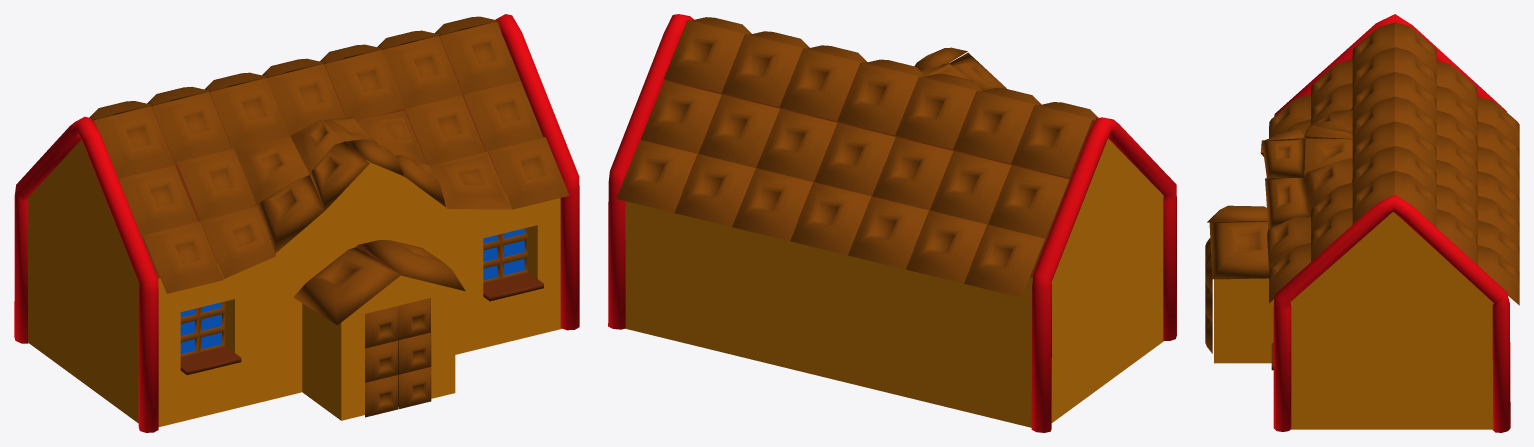
Rendered from chatkazPiernka.fbx.
3 renders of one model, left to right at view 1: azimuth 30°, elevation 25°; view 2: azimuth 150°, elevation 25°; view 3: azimuth 270°, elevation 25°, orthographic. The views are drawn at different scales.
Parts seen in each view (by area): view 1: Cube, kostka.016, Cube.001, kostka.001, kostka, kostka.019, kostka.004, kostka.013, kostka.006, kostka.002, kostka.008, kostka.005 (+28 smaller); view 2: Cube, kostka.033, kostka.035, kostka.045, kostka.048, kostka.050, kostka.031, kostka.036, kostka.040, kostka.042, kostka.046, kostka.034 (+12 smaller); view 3: Cube, kostka.015, kostka.024, kostka.023, kostka.014, kostka.010, kostka.020, kostka.045, kostka.031, kostka.013, kostka, kostka.038 (+32 smaller).
Boxes of the visible parts, bbox=[...] form: Cube: bbox=[14, 14, 579, 432]; kostka.016: bbox=[293, 247, 401, 325]; Cube.001: bbox=[180, 227, 528, 356]; kostka.001: bbox=[382, 36, 462, 108]; kostka: bbox=[440, 22, 520, 94]; kostka.019: bbox=[143, 221, 223, 293]; kostka.004: bbox=[209, 78, 290, 149]; kostka.013: bbox=[488, 137, 569, 209]; kostka.006: bbox=[94, 106, 174, 178]; kostka.002: bbox=[325, 50, 405, 120]; kostka.008: bbox=[177, 148, 256, 220]; kostka.005: bbox=[152, 92, 231, 164]; Cube: bbox=[608, 14, 1176, 432]; kostka.033: bbox=[779, 48, 860, 121]; kostka.035: bbox=[895, 76, 976, 149]; kostka.045: bbox=[616, 140, 697, 212]; kostka.048: bbox=[790, 182, 871, 255]; kostka.050: bbox=[906, 210, 987, 283]; kostka.031: bbox=[664, 20, 744, 92]; kostka.036: bbox=[953, 90, 1034, 163]; kostka.040: bbox=[756, 108, 837, 181]; kostka.042: bbox=[872, 137, 953, 209]; kostka.046: bbox=[674, 154, 755, 226]; kostka.034: bbox=[838, 62, 918, 135]; Cube: bbox=[1214, 14, 1510, 432]; kostka.015: bbox=[1209, 221, 1268, 279]; kostka.024: bbox=[1265, 177, 1310, 228]; kostka.023: bbox=[1262, 138, 1305, 178]; kostka.014: bbox=[1267, 216, 1310, 273]; kostka.010: bbox=[1304, 158, 1352, 209]; kostka.020: bbox=[1304, 138, 1352, 176]; kostka.045: bbox=[1477, 245, 1519, 305]; kostka.031: bbox=[1394, 170, 1436, 227]; kostka.013: bbox=[1269, 243, 1310, 303]; kostka: bbox=[1352, 171, 1394, 224]; kostka.038: bbox=[1436, 209, 1477, 264].
Bounding box in the file's own units: 1234 × 720 × 870.
